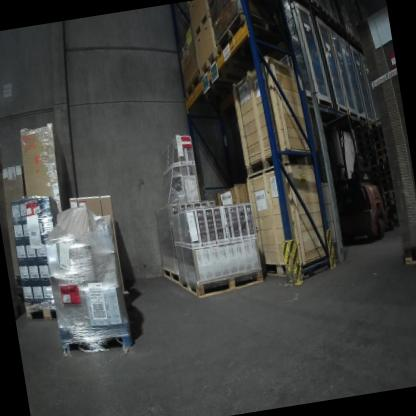forklift: (322, 108, 388, 247)
pallet: (178, 264, 266, 301), (211, 5, 270, 52), (244, 148, 318, 180), (261, 251, 331, 282), (58, 331, 133, 357), (22, 298, 59, 324), (188, 9, 215, 41), (196, 45, 221, 78), (182, 70, 203, 101), (161, 264, 181, 287)
pallet_truck: (376, 156, 398, 232)
